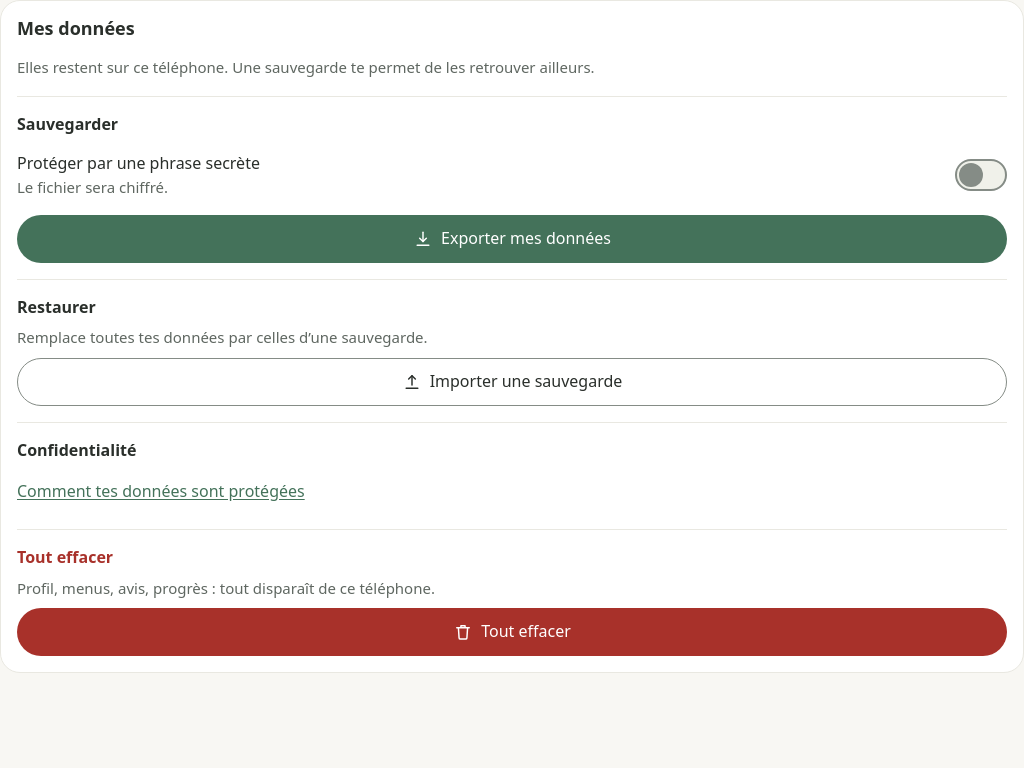
Test: Mes données › export en clair
Click the button "Exporter mes données": (512, 239) [17, 215, 1007, 263]
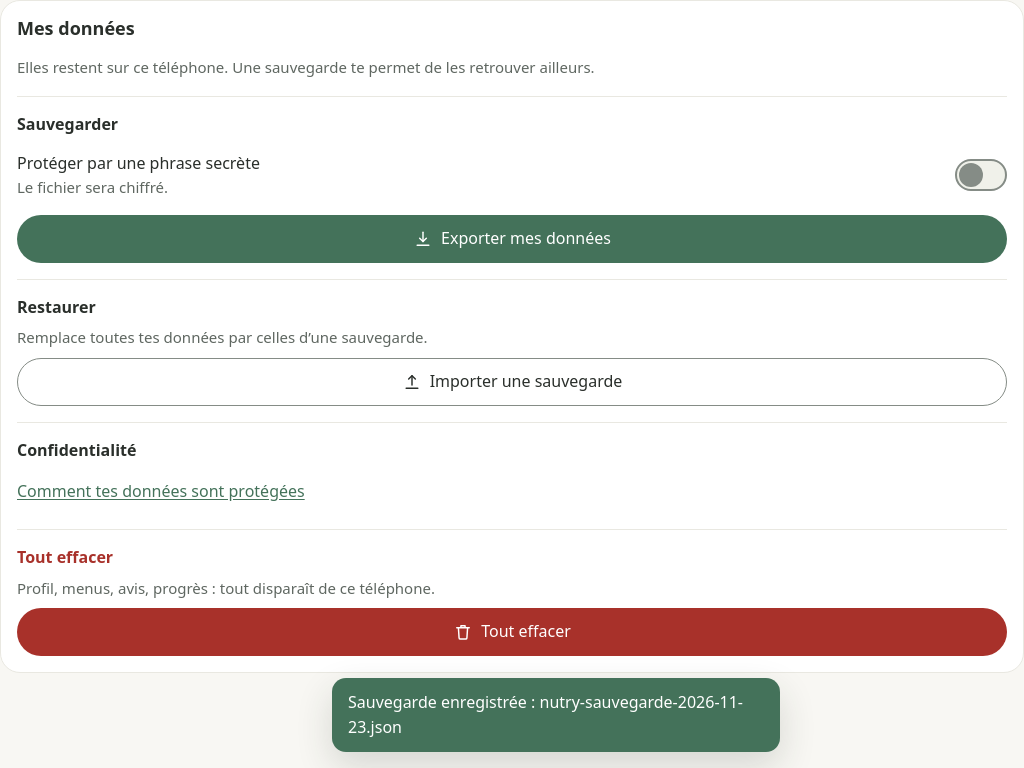
Expected: the text "Sauvegarde enregistrée : nutry-sauvegarde-2026-11-23.json" is shown, [332, 678, 780, 752]
